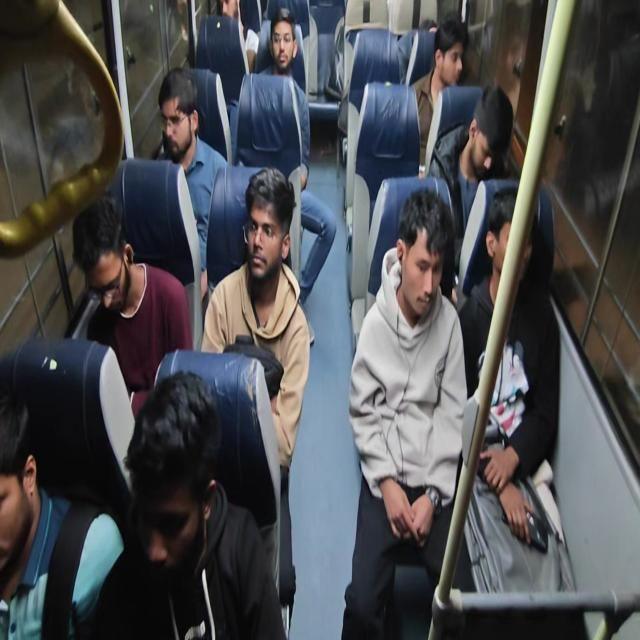person: (0, 374, 49, 579), (389, 187, 452, 334), (67, 198, 137, 322), (464, 68, 528, 180), (239, 162, 294, 292), (485, 181, 535, 293), (158, 64, 202, 172), (436, 15, 468, 96), (269, 11, 305, 82), (210, 0, 242, 31), (416, 8, 442, 41)
